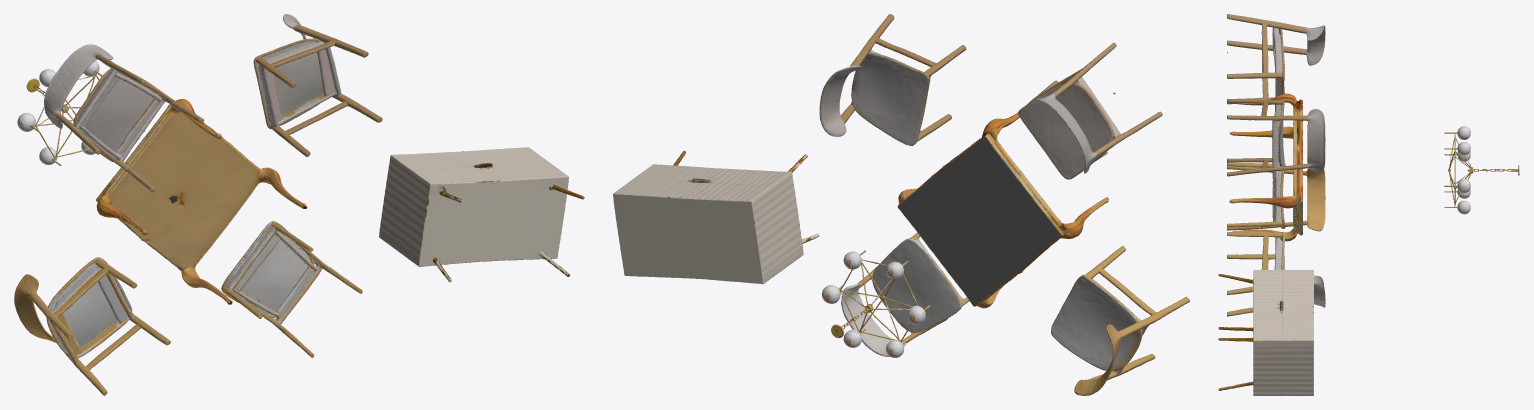
Rendered from scene_0000169_assembled.glb.
3 views of the same model, side by side, from view 1: azimuth 30°, elevation 25°; view 2: azimuth 150°, elevation 25°; view 3: azimuth 270°, elevation 25° (orthographic). The views are drawn at different scales.
Parts seen in each view (by area): view 1: world; view 2: world; view 3: world.
Boxes of the visible parts, x1=… form: world: x1=14, y1=14, x2=584, y2=395; world: x1=613, y1=14, x2=1189, y2=395; world: x1=1218, y1=14, x2=1519, y2=395.
Size of the model in its own units: 1.96 by 1.15 by 1.31.
7 materials, 7 textured.
